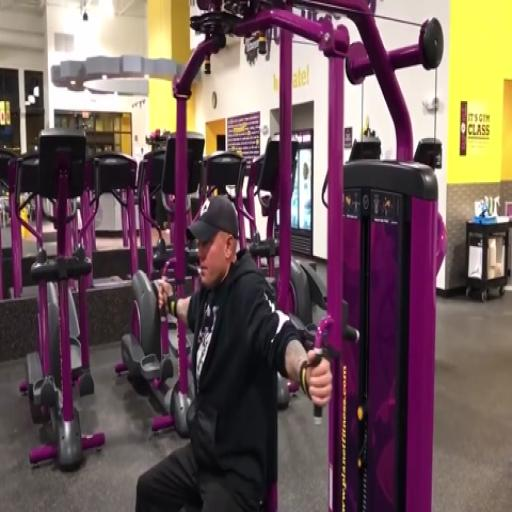exercise: (132, 194, 334, 510)
